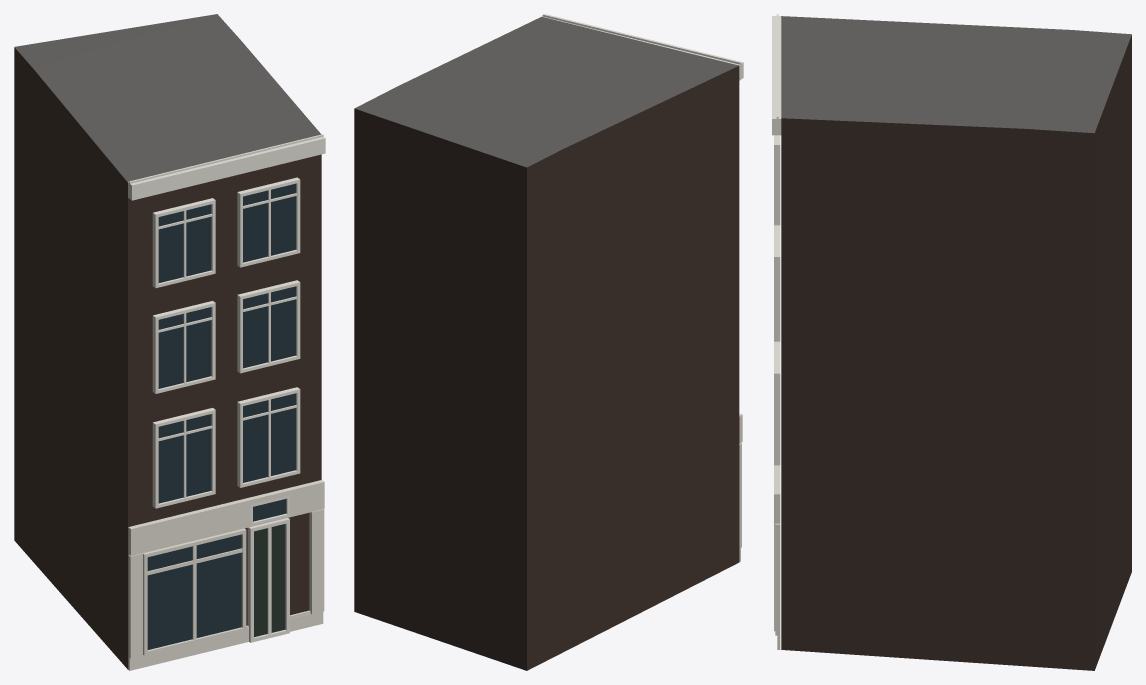
3 views of the same model, side by side, from view 1: azimuth 30°, elevation 25°; view 2: azimuth 150°, elevation 25°; view 3: azimuth 270°, elevation 25° (orthographic). The views are drawn at different scales.
Parts seen in each view (by area): view 1: spec-0363100012170932; view 2: spec-0363100012170932; view 3: spec-0363100012170932.
Part boxes in pixels (<box>): spec-0363100012170932: <box>14,14,325,670</box>; spec-0363100012170932: <box>354,14,743,670</box>; spec-0363100012170932: <box>772,14,1131,670</box>.
Bounding box in the file's own units: 5.63 × 11.37 × 6.9.
